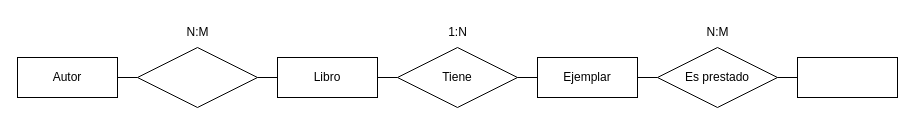
The diagram is 915 pixels wide and 125 high, and some of its shapes have lost their labels. The centre of each missing label's shape, as x and y in pixels:
Escribe: (x=197, y=77)
Usuario: (x=847, y=77)
